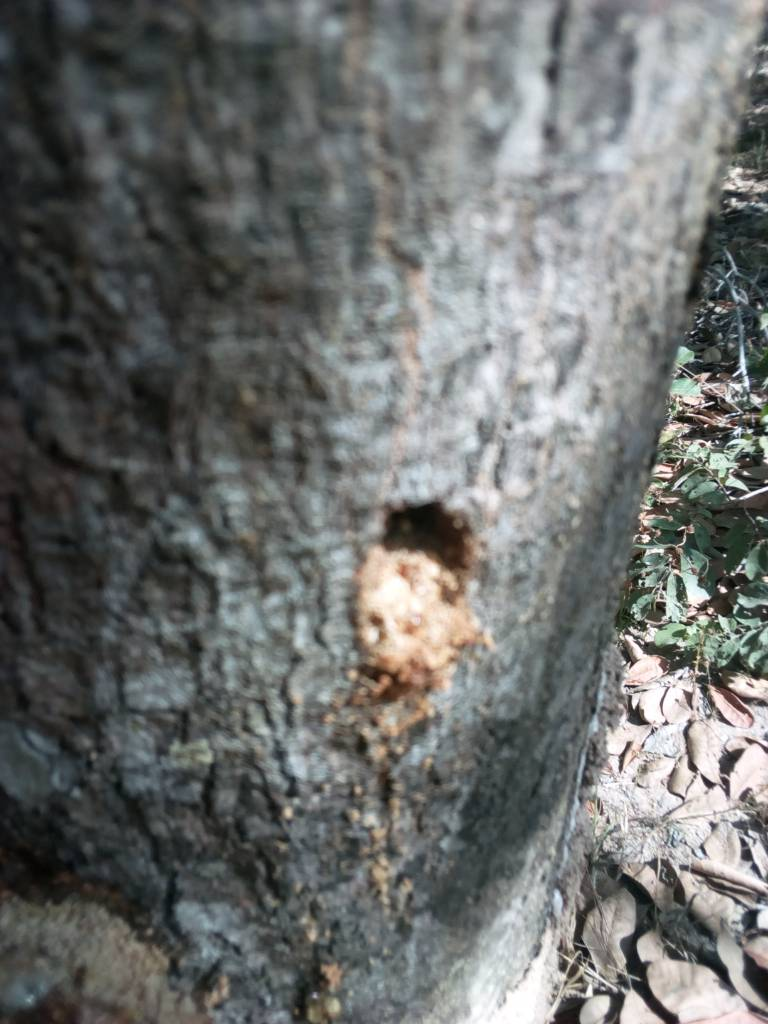Apate terebrans: (297, 477, 571, 816)
